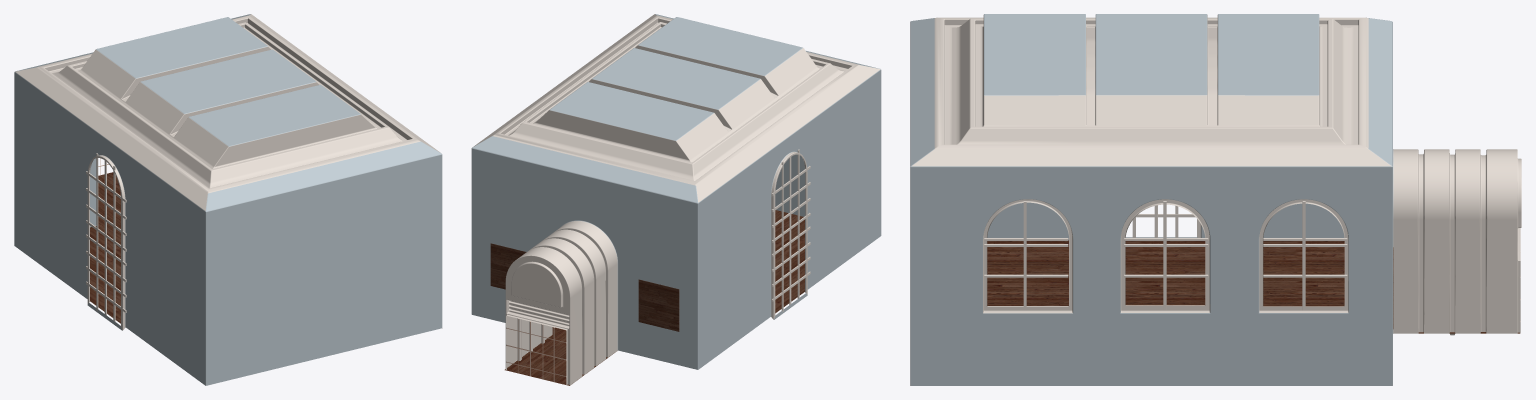
File: museum_Present.gltf
3 renders of one model, left to right at view 1: azimuth 30°, elevation 25°; view 2: azimuth 150°, elevation 25°; view 3: azimuth 270°, elevation 25°, orthographic. The views are drawn at different scales.
Parts seen in each view (by area): view 1: Plane.003, Plane.004, Cube.026; view 2: Plane.003, Plane.004, Cube.026, Plane.005, Plane.006; view 3: Plane.003, Plane.004, Cube.017, Cube.019, Cube.018, Cube.026.
Boxes of the visible parts, <box> form: Plane.003: <box>14,14,442,385</box>; Plane.004: <box>90,172,120,323</box>; Cube.026: <box>86,153,126,321</box>; Plane.003: <box>471,14,881,384</box>; Plane.004: <box>505,210,804,385</box>; Cube.026: <box>771,149,810,311</box>; Plane.005: <box>638,279,679,331</box>; Plane.006: <box>490,243,526,289</box>; Plane.003: <box>910,14,1521,385</box>; Plane.004: <box>987,240,1520,333</box>; Cube.017: <box>1124,201,1208,310</box>; Cube.019: <box>1263,201,1347,310</box>; Cube.018: <box>984,201,1068,310</box>; Cube.026: <box>1132,205,1195,237</box>.
Size of the model in its own units: 22.3 by 18.5 by 39.07.
4 materials, 1 textured.
